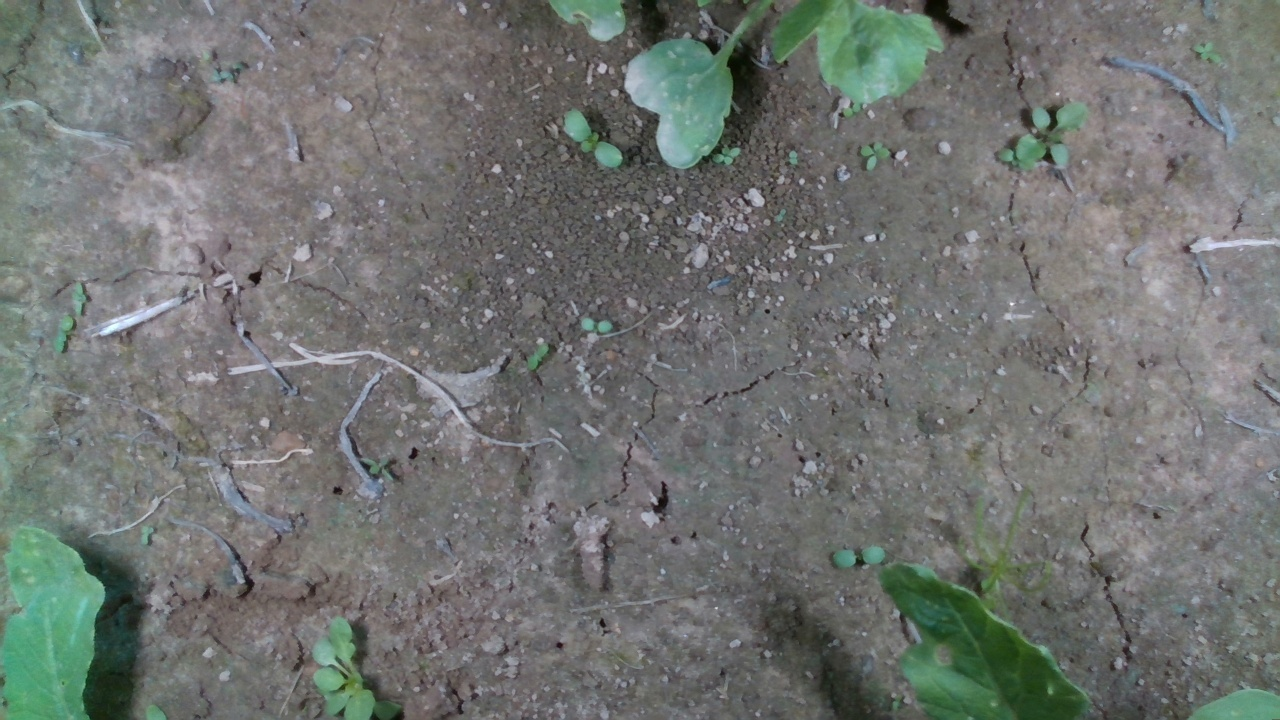weed: (562, 109, 624, 169), (831, 546, 886, 569), (858, 138, 891, 172), (358, 455, 394, 482), (526, 341, 550, 372), (1189, 40, 1220, 63), (711, 144, 741, 167), (71, 277, 89, 315), (580, 317, 614, 333), (787, 149, 799, 165)
